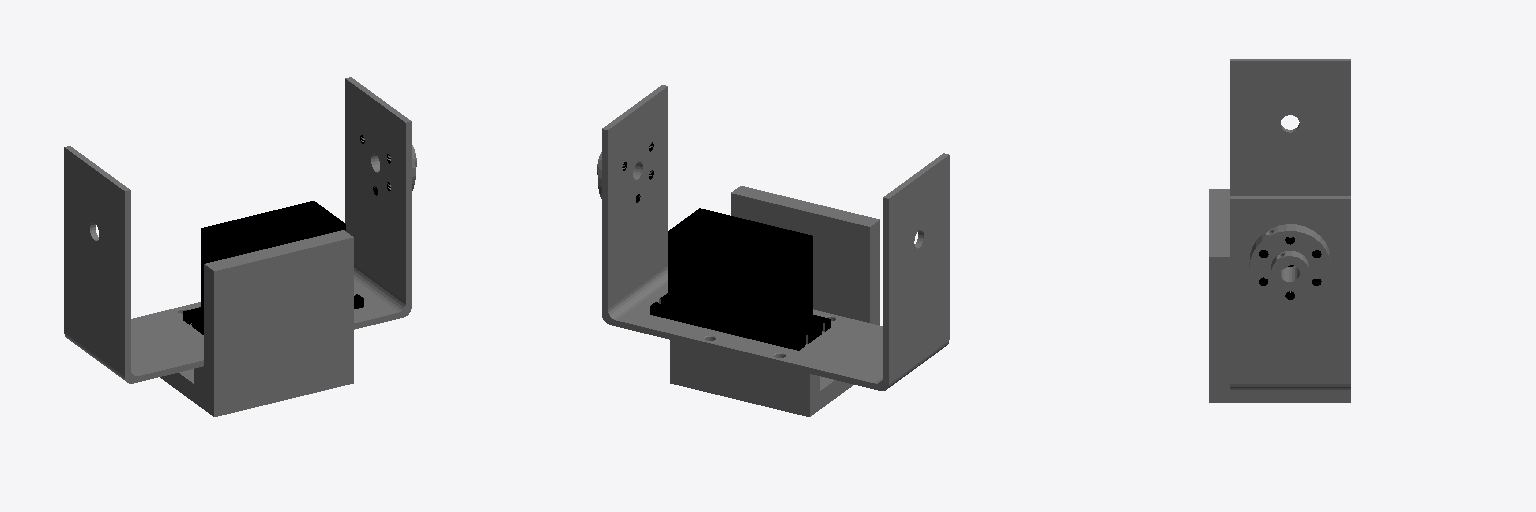
Rendered from pitch_light.obj.
3 renders of one model, left to right at view 1: azimuth 30°, elevation 25°; view 2: azimuth 150°, elevation 25°; view 3: azimuth 270°, elevation 25°, orthographic.
Visible parts, largest first — view 1: Object.1; view 2: Object.1; view 3: Object.1.
Boxes of the visible parts, x1,y1,x2,y2 form: Object.1: [64, 77, 416, 416]; Object.1: [597, 85, 949, 416]; Object.1: [1209, 59, 1350, 402].
Bounding box in the file's own units: 112 × 82.96 × 43.95.